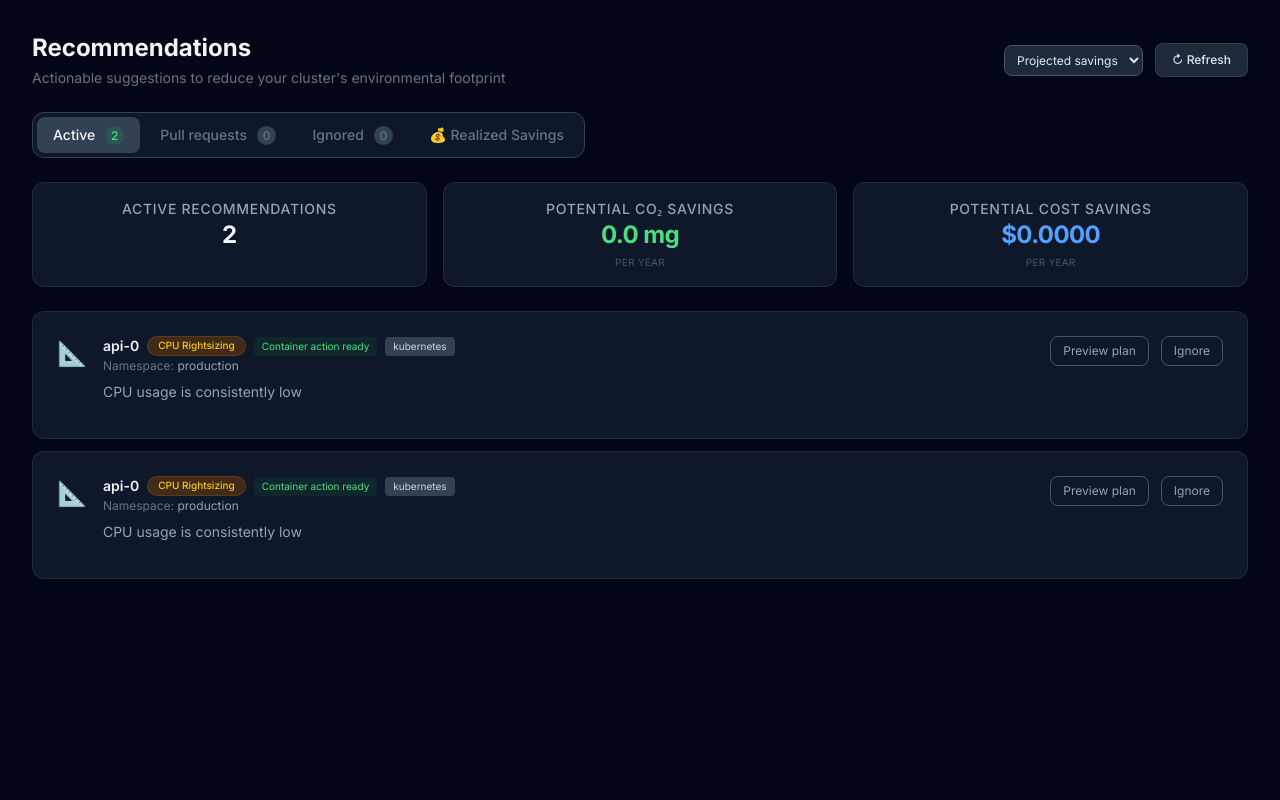
Test case: RecommendationsPage GitOps plan flow › previews a single change set containing multiple container operations
The width and height of the screenshot is (1280, 800).
Expected: the text "Container action ready" is shown 2 times, top-left (254, 336), bottom-right (377, 356); top-left (254, 476), bottom-right (377, 496)
What coordinates should you click on to do the following:
click the 1st button "Preview plan"
I would click on:
 (1100, 351)
Its box is top-left (1050, 336), bottom-right (1149, 366).
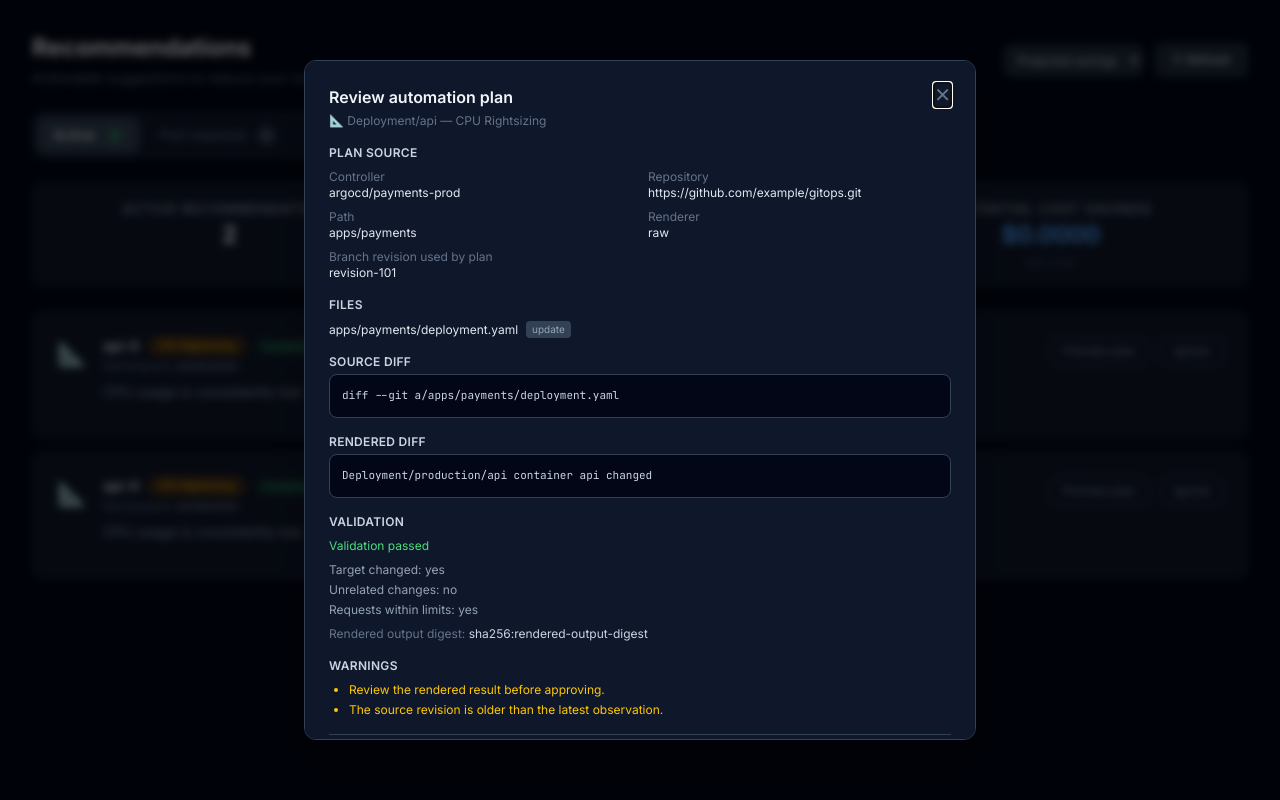
Expected: the heading "Review automation plan" is shown, top-left (329, 87), bottom-right (513, 107)
